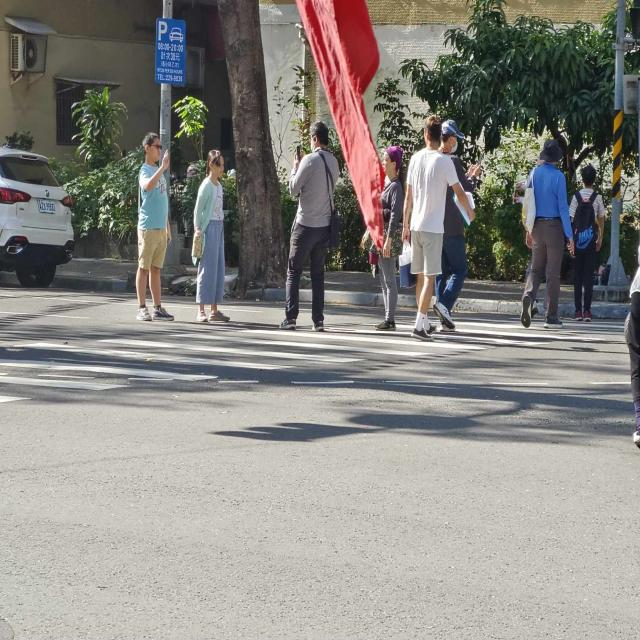person: (402, 115, 475, 341), (280, 122, 339, 332), (521, 138, 575, 328), (135, 133, 174, 320), (194, 150, 230, 323), (570, 165, 605, 322), (375, 147, 404, 332), (435, 187, 468, 331), (440, 120, 481, 192), (625, 267, 640, 448)
zebra crossing: (0, 319, 624, 401)
